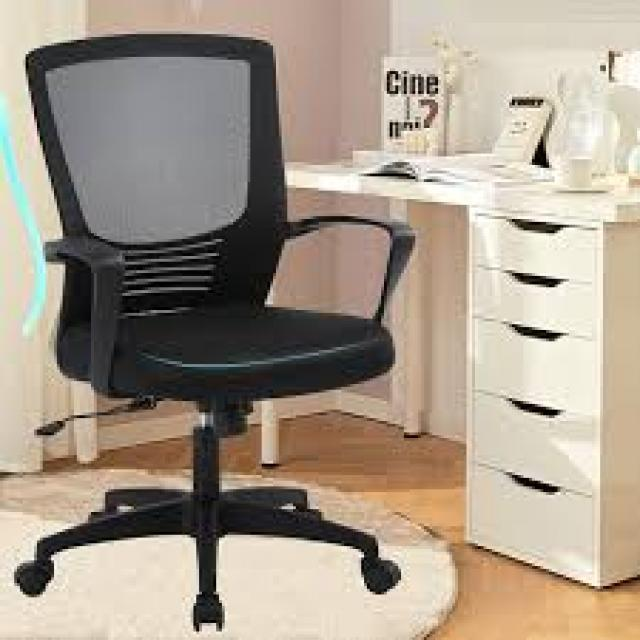chair: (16, 32, 407, 635)
